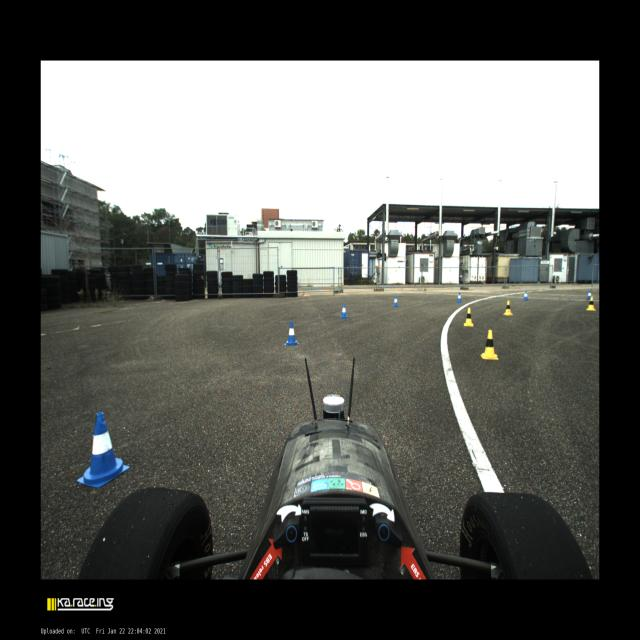blue_cone: (76, 412, 130, 487), (284, 322, 299, 346), (340, 304, 348, 318), (393, 295, 398, 307), (456, 292, 462, 302), (522, 290, 528, 300), (586, 290, 592, 300)
yellow_cone: (481, 330, 498, 360), (464, 308, 474, 326), (586, 296, 596, 310), (503, 301, 513, 315)
